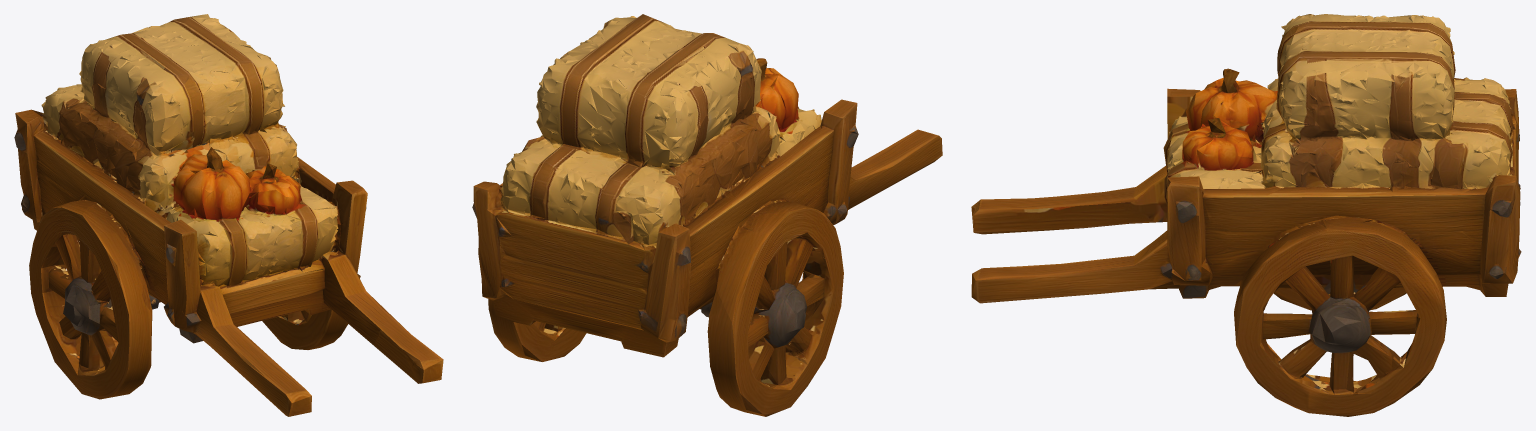
File: ck_cart.glb
3 views of the same model, side by side, from view 1: azimuth 30°, elevation 25°; view 2: azimuth 150°, elevation 25°; view 3: azimuth 270°, elevation 25° (orthographic). The views are drawn at different scales.
Parts seen in each view (by area): view 1: ck_cart; view 2: ck_cart; view 3: ck_cart.
Boxes of the visible parts, <box> form: ck_cart: <box>14,14,443,416</box>; ck_cart: <box>472,14,942,416</box>; ck_cart: <box>971,14,1521,416</box>.
Size of the model in its own units: 1.08 by 1.29 by 1.97.
1 material, 1 textured.
